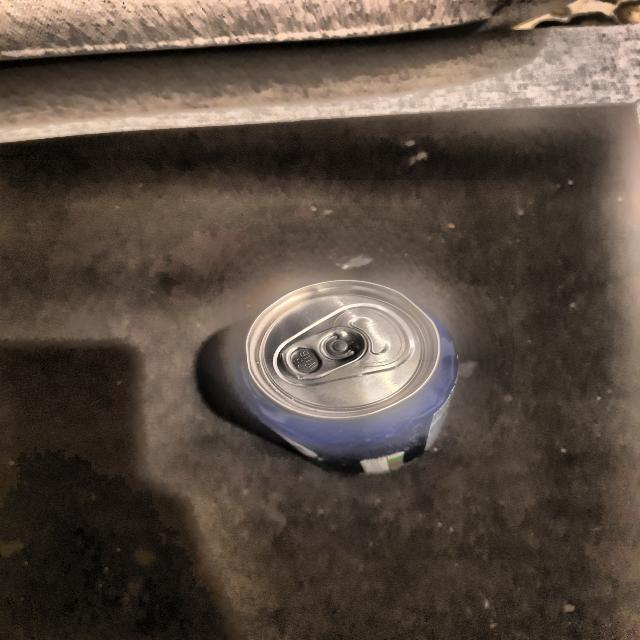pepsi-can: (244, 273, 462, 478)
